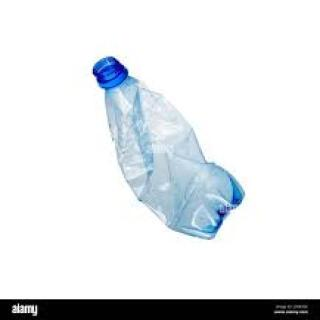Anorganik: (85, 51, 259, 255)
